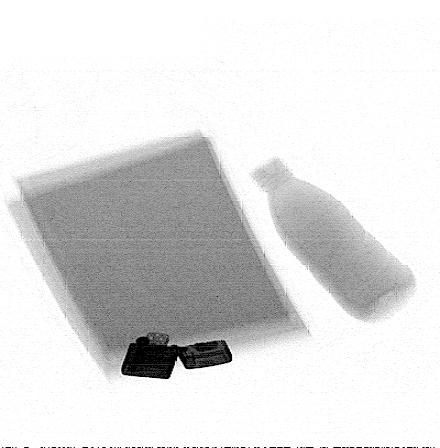Lighter: (120, 332, 233, 380)
